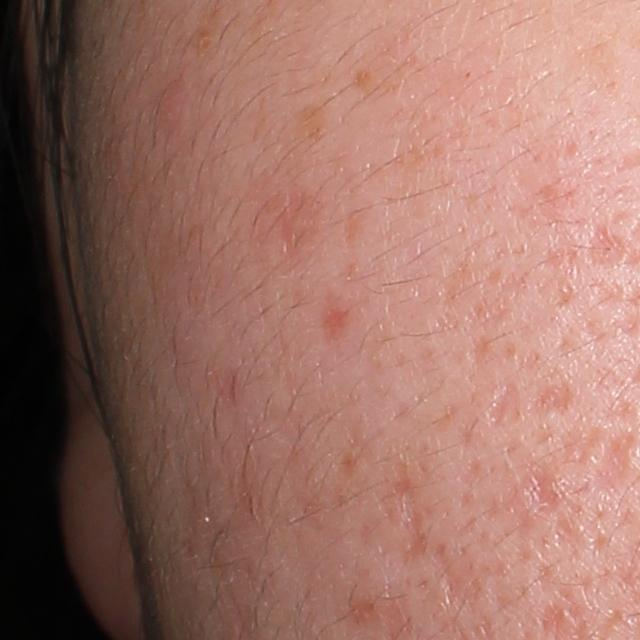atrophic_scar: (496, 440, 556, 528), (393, 462, 427, 566), (278, 180, 321, 255), (592, 436, 633, 493), (481, 381, 522, 430), (529, 384, 566, 421)
melasma: (288, 104, 332, 143)
